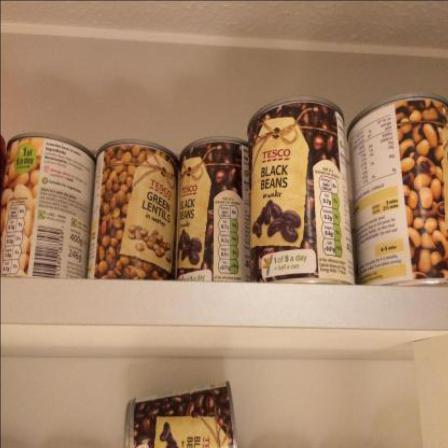Can: (247, 97, 356, 286), (347, 93, 448, 288), (1, 132, 97, 280), (87, 140, 180, 282), (177, 137, 251, 283), (125, 382, 240, 448)
